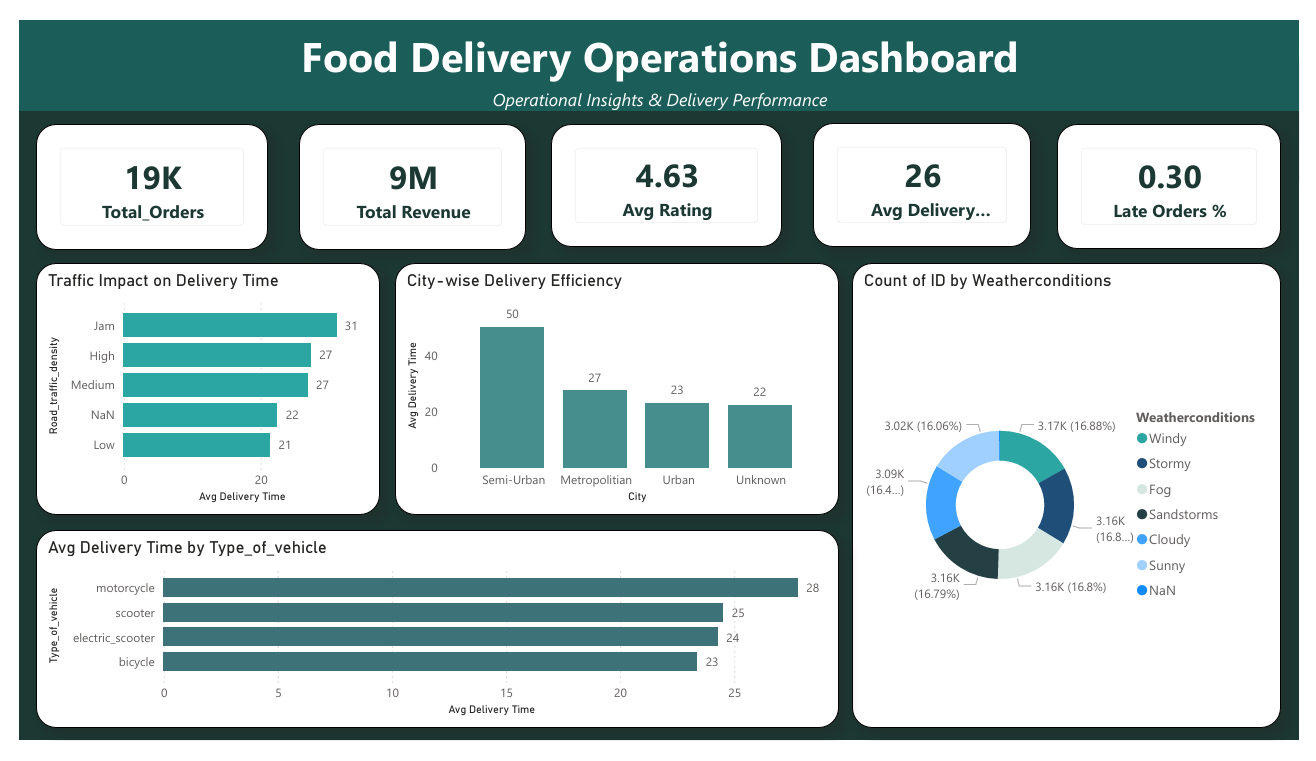

What the dashboard file says about the page in this screenshot:
{"tool":"powerbi","page":{"name":"Business Summary Page","canvas":[1280,720],"ordinal":0},"visuals":[{"type":"cardVisual","fields":{"Data":["orders.Total_Orders"]},"box":[16.5,102.9,231.9,126.2],"z":0},{"type":"cardVisual","fields":{"Data":["orders.Total Revenue"]},"box":[278.6,102.9,227.8,126.2],"z":1000},{"type":"cardVisual","fields":{"Data":["orders.Avg Delivery Time"]},"box":[793.1,101.5,218.2,124.9],"z":2000},{"type":"cardVisual","fields":{"Data":["orders.Avg Rating"]},"box":[531,102.9,230.5,123.5],"z":3000},{"type":"cardVisual","fields":{"Data":["orders.Late Orders %"]},"box":[1037.4,102.9,223.7,124.9],"z":4000},{"type":"textbox","title":"Food Delivery Operations Dashboard ","box":[0,0,1280.3,90.6],"z":5000},{"type":"clusteredBarChart","title":"Traffic Impact on Delivery Time","fields":{"Y":["orders.Avg Delivery Time"],"Category":["orders.Road_traffic_density"]},"box":[16.5,241.5,343.1,252.5],"z":6000},{"type":"columnChart","title":"City-wise Delivery Efficiency","fields":{"Y":["orders.Avg Delivery Time"],"Category":["orders.City"]},"box":[374.6,241.5,444.6,252.5],"z":7000},{"type":"donutChart","title":"Count of ID by Weatherconditions","fields":{"Category":["orders.Weatherconditions"],"Y":["CountNonNull(orders.ID)"]},"box":[831.6,241.5,429.5,465.2],"z":8000},{"type":"barChart","fields":{"Category":["orders.Type_of_vehicle"],"Y":["orders.Avg Delivery Time"]},"box":[16.5,509.1,802.7,197.6],"z":10000}]}

Visuals, with their boxes in screenshot pixels (x1, y1, x2, y2), scaled from the page's 1280x720 canvas onto the 1316x761 screenshot:
cardVisual - orders.Total_Orders: l=17, t=109, r=255, b=242
cardVisual - orders.Total Revenue: l=286, t=109, r=521, b=242
cardVisual - orders.Avg Delivery Time: l=815, t=107, r=1040, b=239
cardVisual - orders.Avg Rating: l=546, t=109, r=783, b=239
cardVisual - orders.Late Orders %: l=1067, t=109, r=1297, b=241
"Food Delivery Operations Dashboard " textbox: l=0, t=0, r=1315, b=96
"Traffic Impact on Delivery Time" clusteredBarChart: l=17, t=255, r=370, b=522
"City-wise Delivery Efficiency" columnChart: l=385, t=255, r=842, b=522
"Count of ID by Weatherconditions" donutChart: l=855, t=255, r=1297, b=747
barChart - orders.Type_of_vehicle x orders.Avg Delivery Time: l=17, t=538, r=842, b=747
